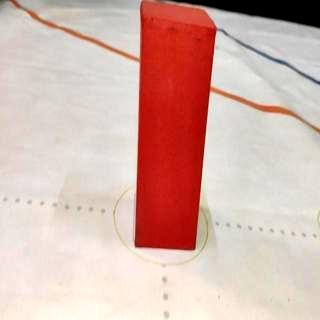redbox: (134, 0, 217, 251)
